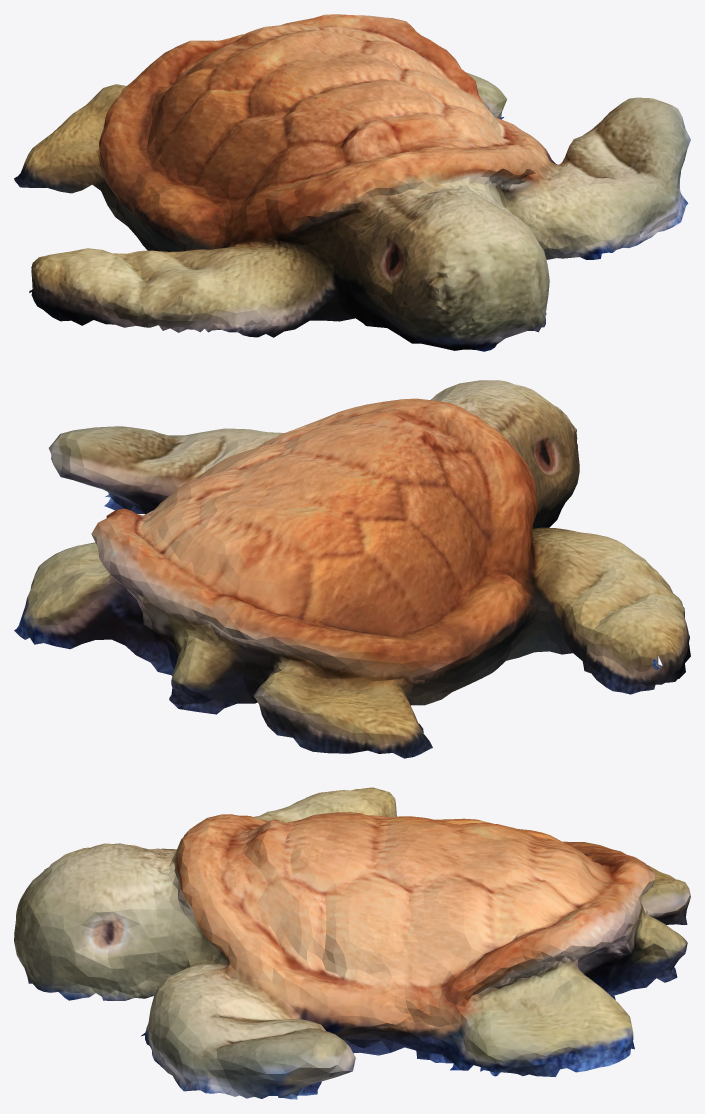
Rendered from turtle_edited.glb.
3 renders of one model, top to bottom at view 1: azimuth 30°, elevation 25°; view 2: azimuth 150°, elevation 25°; view 3: azimuth 270°, elevation 25°, orthographic. The views are drawn at different scales.
Parts seen in each view (by area): view 1: Mesh_0; view 2: Mesh_0; view 3: Mesh_0.
Part boxes in pixels (box(x1,y1,x2,y2)): Mesh_0: box(14, 14, 690, 351); Mesh_0: box(14, 380, 690, 758); Mesh_0: box(14, 787, 690, 1099).
Size of the model in its own units: 0.9513 by 0.2219 by 0.876.
1 material, 1 textured.
